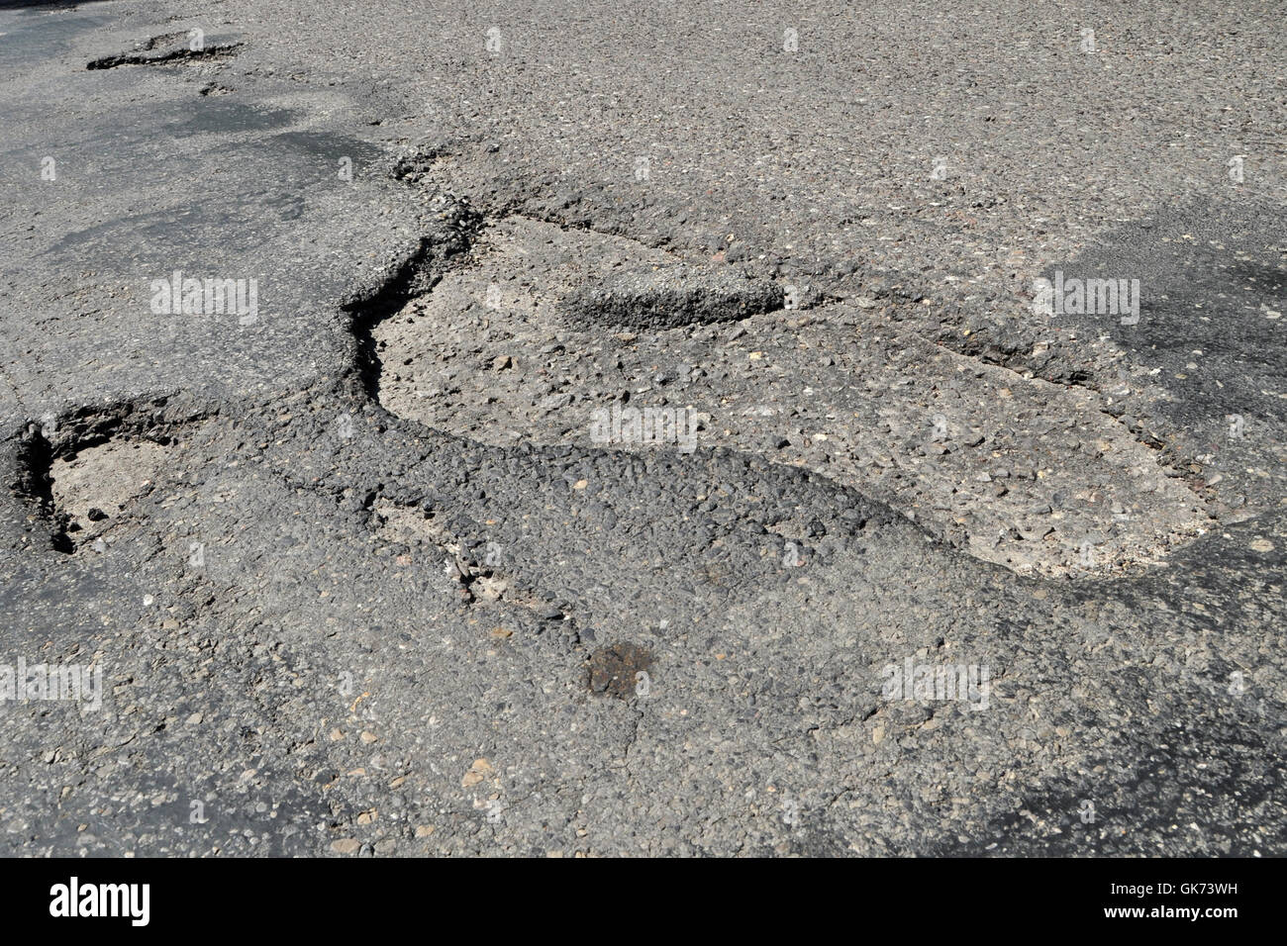Hole_in_the_road: (21, 194, 1228, 695)
